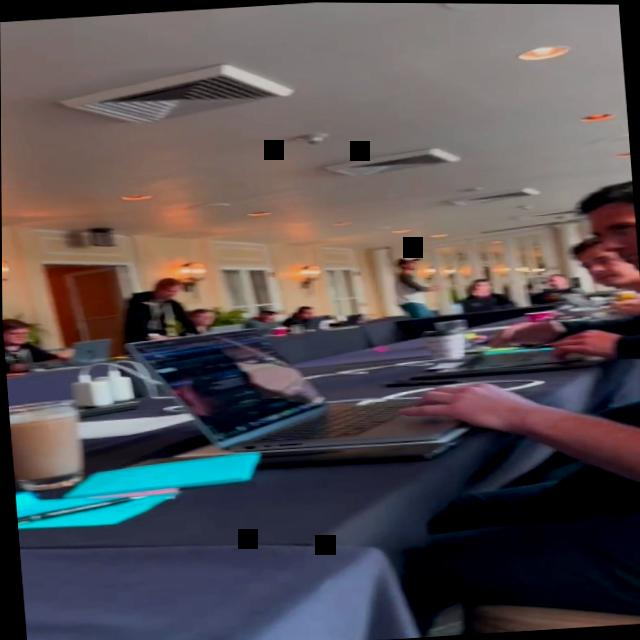NO-Mask: (588, 199, 638, 273), (577, 242, 638, 288), (2, 325, 29, 346), (193, 309, 217, 326), (160, 283, 182, 300), (470, 280, 489, 296), (259, 310, 274, 324), (546, 274, 562, 287), (403, 259, 418, 270), (300, 307, 314, 317)
